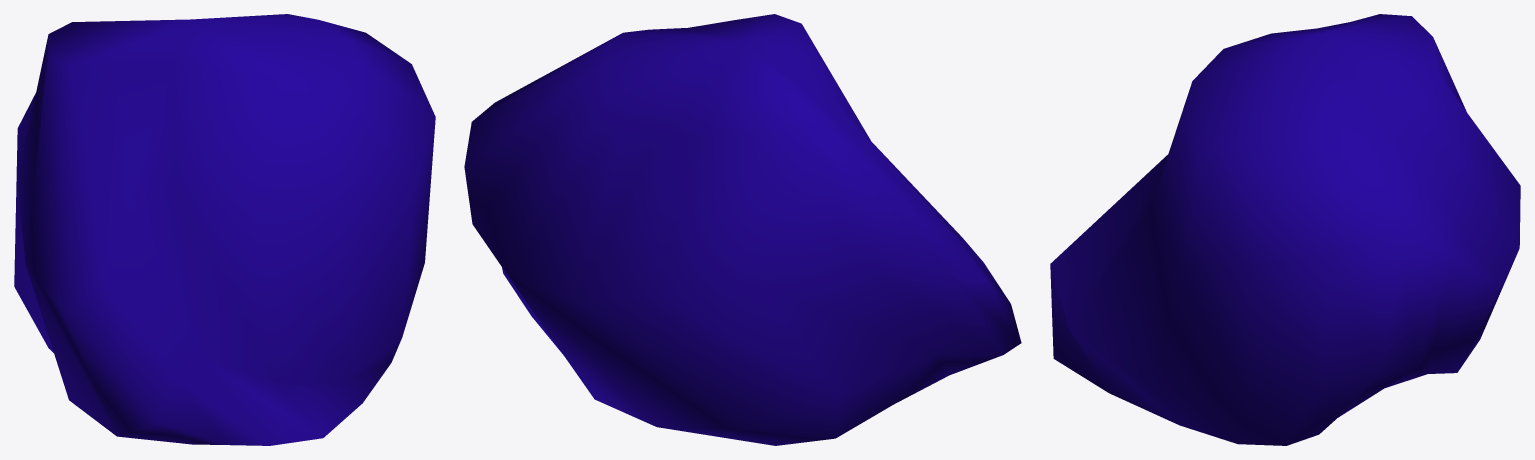
Rendered from CG_Model_TownExt_Rock2_Mar24_ChrisMcknight.FBX.
3 renders of one model, left to right at view 1: azimuth 30°, elevation 25°; view 2: azimuth 150°, elevation 25°; view 3: azimuth 270°, elevation 25°, orthographic. The views are drawn at different scales.
Visible parts, largest first — view 1: Sphere002; view 2: Sphere002; view 3: Sphere002.
Boxes of the visible parts, left/top/right/bottom form: Sphere002: left=14, top=14, right=435, bottom=445; Sphere002: left=464, top=14, right=1021, bottom=445; Sphere002: left=1050, top=14, right=1520, bottom=445.
Bounding box in the file's own units: 26.33 × 19.96 × 26.15.
